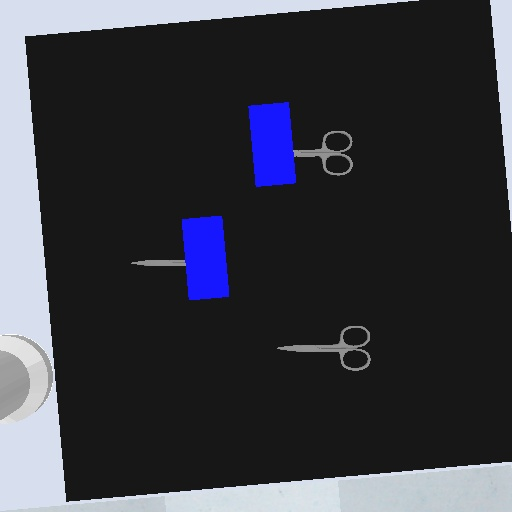tijera: (274, 322, 374, 374), (292, 128, 359, 178), (128, 256, 187, 270)
